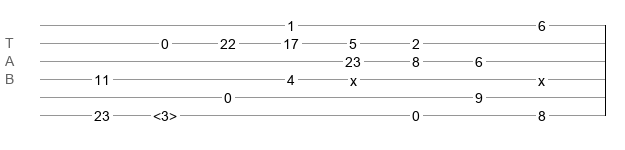0: (161, 36, 169, 46), (224, 90, 232, 100), (412, 108, 420, 118)
1: (287, 18, 295, 28)
11: (94, 72, 110, 82)
17: (283, 36, 299, 46)
2: (412, 36, 420, 46)
22: (220, 36, 236, 46)
23: (94, 108, 110, 118), (345, 54, 361, 64)
4: (287, 72, 295, 82)
5: (349, 36, 357, 46)
6: (475, 54, 483, 64), (538, 18, 546, 28)
8: (412, 54, 420, 64), (538, 108, 546, 118)
9: (475, 90, 483, 100)
harmonic: (153, 108, 177, 118)
x: (350, 73, 357, 81), (538, 73, 545, 81)
